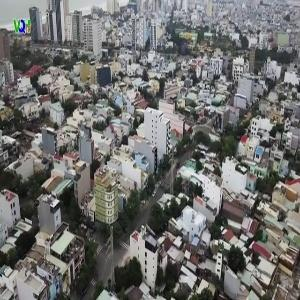drone: (169, 29, 210, 70)
